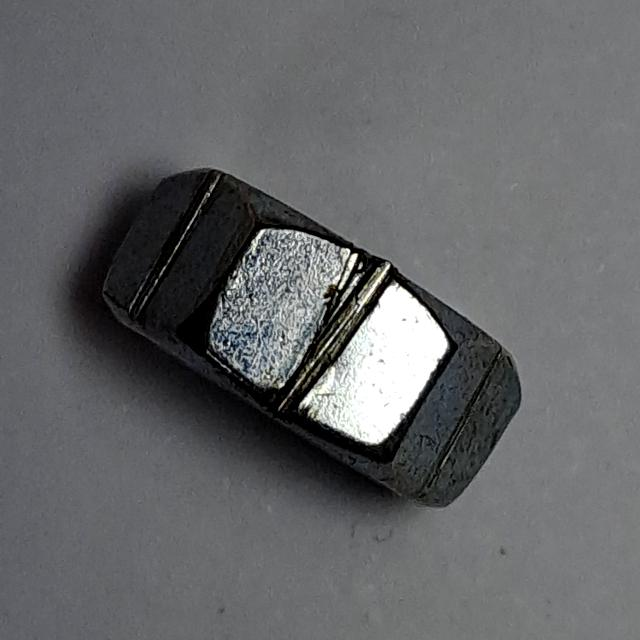Side_Scratches: (91, 154, 544, 521)
